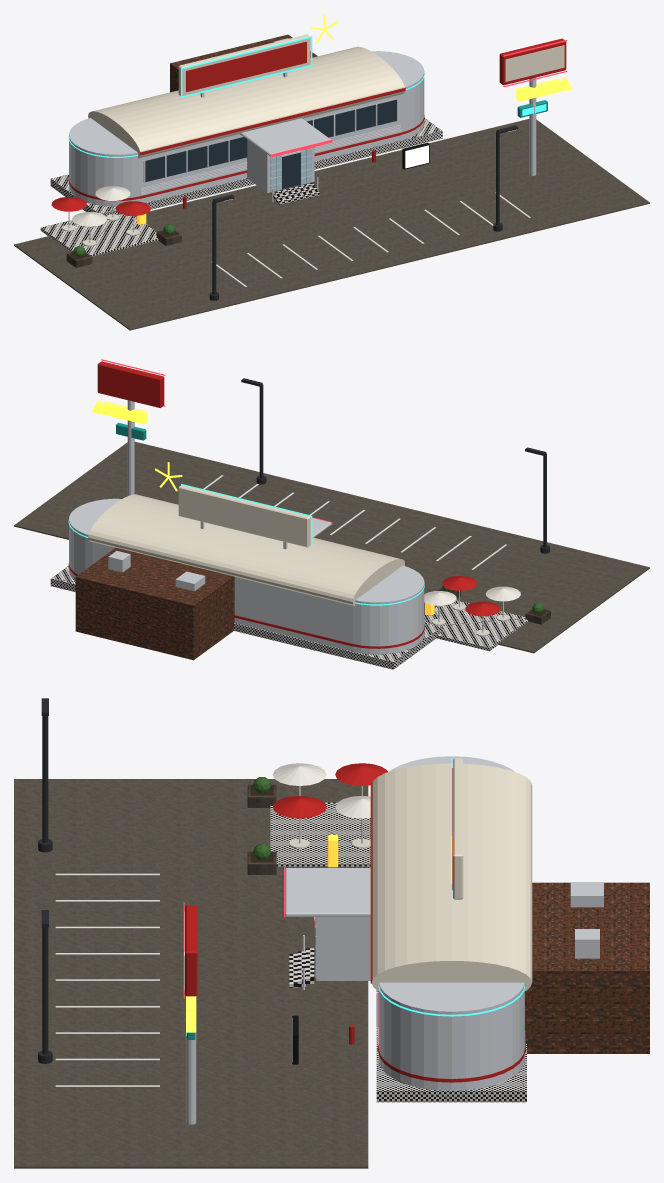
The model's file is OT_Diner_B.glb.
3 renders of one model, top to bottom at view 1: azimuth 30°, elevation 25°; view 2: azimuth 150°, elevation 25°; view 3: azimuth 270°, elevation 25°, orthographic. The views are drawn at different scales.
Visible parts, largest first — view 1: OT_Diner_B_Pavement, OT_Diner_B_Cream__f2ead7, OT_Diner_B_Steel__d4d8de, OT_Diner_B_Checker, OT_Diner_B_DinerRed__c3201e, OT_Diner_B_Glass__2a3a46, OT_Diner_B_ChromeFrame__e6e9ee, OT_Diner_B_PoleDark__2a2c30, OT_Diner_B_NeonTeal__2fe0d8, OT_Diner_B_NeonYellow__ffd23a, OT_Diner_B_Umbrella__c3201e, OT_Diner_B_UmbrellaW__f0ece2 (+5 smaller); view 2: OT_Diner_B_Pavement, OT_Diner_B_Cream__f2ead7, OT_Diner_B_Steel__d4d8de, OT_Diner_B_Brick, OT_Diner_B_Checker, OT_Diner_B_DinerRed__c3201e, OT_Diner_B_PoleDark__2a2c30, OT_Diner_B_NeonYellow__ffd23a, OT_Diner_B_Umbrella__c3201e, OT_Diner_B_UmbrellaW__f0ece2, OT_Diner_B_PaintWhite__f0f0ee, OT_Diner_B_NeonTeal__2fe0d8; view 3: OT_Diner_B_Pavement, OT_Diner_B_Cream__f2ead7, OT_Diner_B_Steel__d4d8de, OT_Diner_B_Brick, OT_Diner_B_Checker, OT_Diner_B_DinerRed__c3201e, OT_Diner_B_PoleDark__2a2c30, OT_Diner_B_PaintWhite__f0f0ee, OT_Diner_B_Umbrella__c3201e, OT_Diner_B_UmbrellaW__f0ece2, OT_Diner_B_PlanterStone.
Part boxes in pixels (box(x1,y1,x2,y2)): OT_Diner_B_Pavement: box(14, 119, 649, 330); OT_Diner_B_Cream__f2ead7: box(88, 34, 564, 158); OT_Diner_B_Steel__d4d8de: box(69, 38, 536, 206); OT_Diner_B_Checker: box(40, 118, 442, 256); OT_Diner_B_DinerRed__c3201e: box(68, 38, 566, 208); OT_Diner_B_Glass__2a3a46: box(145, 99, 396, 189); OT_Diner_B_ChromeFrame__e6e9ee: box(68, 97, 400, 246); OT_Diner_B_PoleDark__2a2c30: box(209, 125, 517, 300); OT_Diner_B_NeonTeal__2fe0d8: box(68, 36, 546, 157); OT_Diner_B_NeonYellow__ffd23a: box(311, 14, 571, 101); OT_Diner_B_Umbrella__c3201e: box(51, 197, 150, 215); OT_Diner_B_UmbrellaW__f0ece2: box(72, 186, 130, 226); OT_Diner_B_Pavement: box(14, 441, 649, 653); OT_Diner_B_Cream__f2ead7: box(88, 485, 404, 605); OT_Diner_B_Steel__d4d8de: box(69, 400, 424, 654); OT_Diner_B_Brick: box(75, 547, 234, 660); OT_Diner_B_Checker: box(50, 566, 528, 669); OT_Diner_B_DinerRed__c3201e: box(68, 361, 424, 648); OT_Diner_B_PoleDark__2a2c30: box(241, 378, 549, 553); OT_Diner_B_NeonYellow__ffd23a: box(92, 400, 182, 491); OT_Diner_B_Umbrella__c3201e: box(442, 576, 500, 616); OT_Diner_B_UmbrellaW__f0ece2: box(424, 586, 520, 605); OT_Diner_B_PaintWhite__f0f0ee: box(203, 475, 506, 569); OT_Diner_B_NeonTeal__2fe0d8: box(68, 484, 424, 605); OT_Diner_B_Pavement: box(14, 779, 368, 1168); OT_Diner_B_Cream__f2ead7: box(184, 758, 532, 991); OT_Diner_B_Steel__d4d8de: box(186, 756, 603, 1124); OT_Diner_B_Brick: box(525, 882, 649, 1053); OT_Diner_B_Checker: box(270, 802, 526, 1102); OT_Diner_B_DinerRed__c3201e: box(185, 768, 525, 1082); OT_Diner_B_PoleDark__2a2c30: box(38, 698, 52, 1063); OT_Diner_B_PaintWhite__f0f0ee: box(55, 873, 159, 1086); OT_Diner_B_Umbrella__c3201e: box(272, 763, 387, 818); OT_Diner_B_UmbrellaW__f0ece2: box(272, 763, 370, 818); OT_Diner_B_PlanterStone: box(247, 784, 276, 874).
Size of the model in its own units: 44 by 10.49 by 30.5.
Materials: 26 (4 with a texture image).
